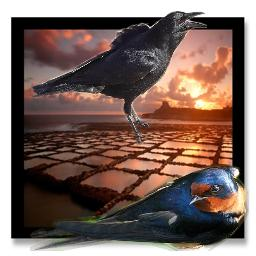Crow: (31, 10, 207, 147)
Swallow: (30, 164, 249, 251)
